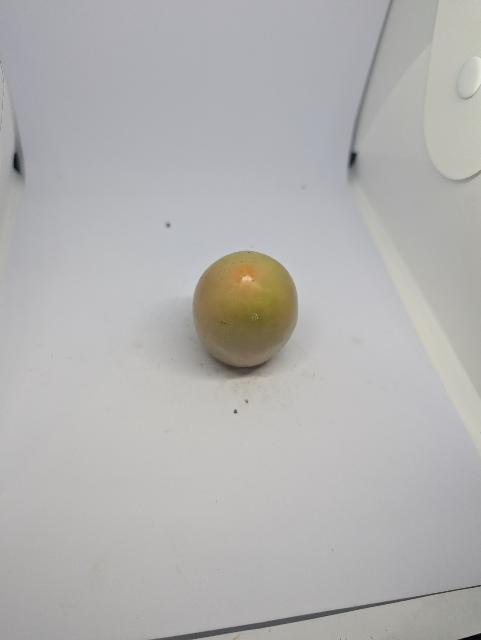breaker: (193, 251, 298, 367)
